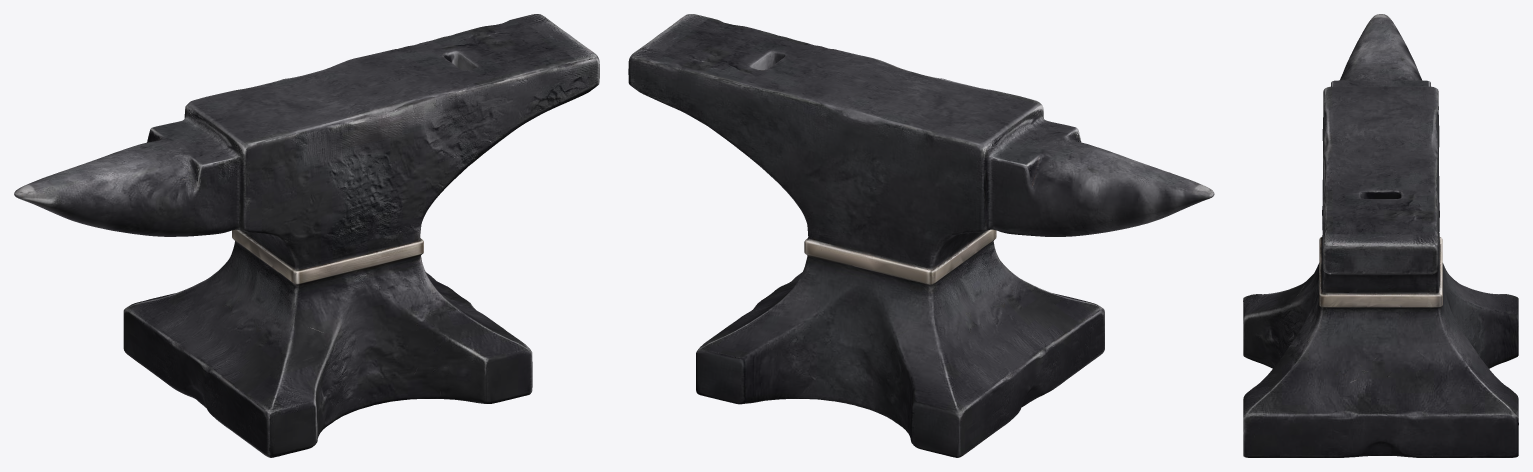
File: anvil.glb
The picture shows the model from 3 angles, left to right: view 1: azimuth 30°, elevation 25°; view 2: azimuth 150°, elevation 25°; view 3: azimuth 270°, elevation 25°; orthographic projection. The views are drawn at different scales.
Visible parts, largest first — view 1: Mesh_0; view 2: Mesh_0; view 3: Mesh_0.
Boxes of the visible parts, <box> form: Mesh_0: <box>14,14,599,457</box>; Mesh_0: <box>628,14,1214,457</box>; Mesh_0: <box>1243,14,1518,457</box>.
Bounding box in the file's own units: 1.9 × 0.9243 × 0.868.
1 material, 1 textured.
